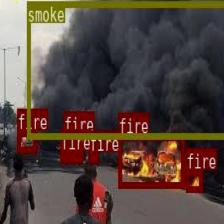fire: (118, 134, 184, 188), (16, 129, 36, 152), (185, 170, 202, 191), (60, 151, 82, 163), (62, 132, 75, 142), (88, 152, 98, 162)
smoke: (26, 0, 224, 138)
